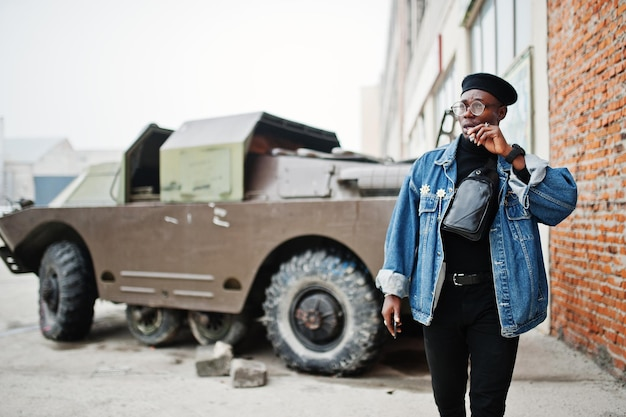cigarette: (466, 125, 476, 142)
